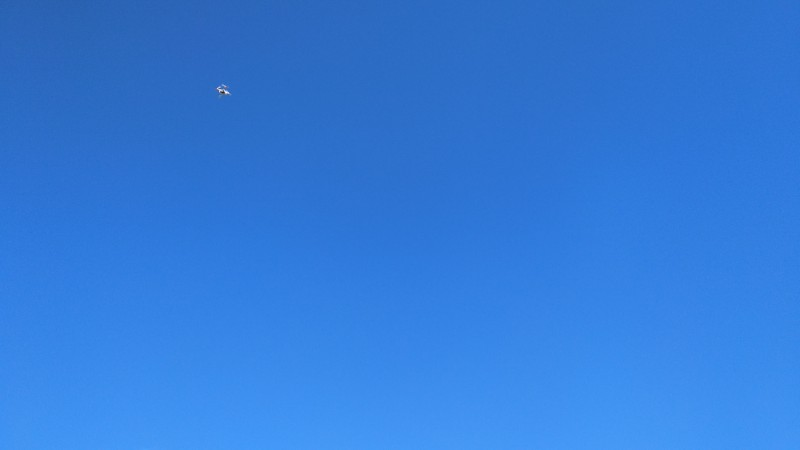drone: (213, 82, 232, 100)
